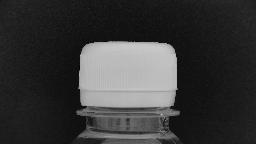Good Cap: (66, 39, 186, 120)
